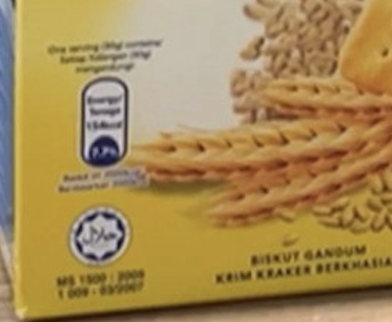halal: (80, 214, 115, 251)
